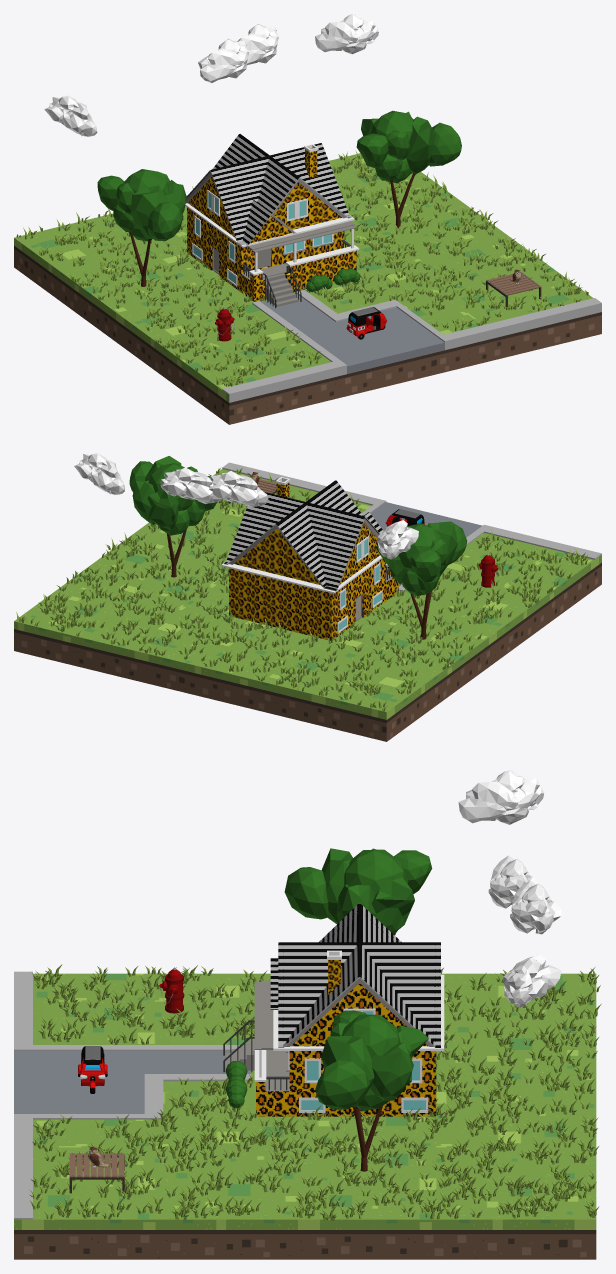
3 views of the same model, one above another, from view 1: azimuth 30°, elevation 25°; view 2: azimuth 150°, elevation 25°; view 3: azimuth 270°, elevation 25° (orthographic). The views are drawn at different scales.
Visible parts, largest first — view 1: Cube.006, Cube.637, Circle.012_Grass_0.192, Cube.007, tree, tree.001, VEHICLES_TUC_TUC, Cube.009; view 2: Cube.006, Cube.637, Circle.012_Grass_0.192, Cube.007, tree.001, tree, OBJRANDOM_FIRE_HYDRANT, VEHICLES_TUC_TUC; view 3: Cube.006, Circle.012_Grass_0.192, Cube.637, tree, Cube.007, tree.001, Cube.009, VEHICLES_TUC_TUC, OBJRANDOM_FIRE_HYDRANT.
Part boxes in pixels (bbox=[...]): Cube.006: bbox=[14, 153, 601, 424]; Cube.637: bbox=[185, 134, 359, 308]; Circle.012_Grass_0.192: bbox=[16, 150, 588, 386]; Cube.007: bbox=[44, 14, 378, 136]; tree: bbox=[356, 110, 461, 228]; tree.001: bbox=[97, 169, 186, 286]; VEHICLES_TUC_TUC: bbox=[346, 307, 387, 339]; Cube.009: bbox=[486, 272, 541, 306]; Cube.006: bbox=[14, 462, 601, 741]; Cube.637: bbox=[221, 477, 398, 640]; Circle.012_Grass_0.192: bbox=[16, 468, 588, 711]; Cube.007: bbox=[74, 453, 418, 559]; tree.001: bbox=[375, 521, 467, 639]; tree: bbox=[129, 456, 216, 577]; OBJRANDOM_FIRE_HYDRANT: bbox=[478, 554, 498, 587]; VEHICLES_TUC_TUC: bbox=[385, 509, 424, 526]; Cube.006: bbox=[14, 971, 596, 1259]; Circle.012_Grass_0.192: bbox=[29, 964, 601, 1220]; Cube.637: bbox=[223, 903, 444, 1116]; tree: bbox=[315, 1010, 428, 1171]; Cube.007: bbox=[458, 770, 561, 1007]; tree.001: bbox=[284, 848, 432, 935]; Cube.009: bbox=[69, 1153, 124, 1193]; VEHICLES_TUC_TUC: bbox=[78, 1046, 107, 1093]; OBJRANDOM_FIRE_HYDRANT: bbox=[160, 967, 184, 1013].
Bounding box in the file's own units: 4071 × 2153 × 4040.
Materials: 38 (4 with a texture image).
